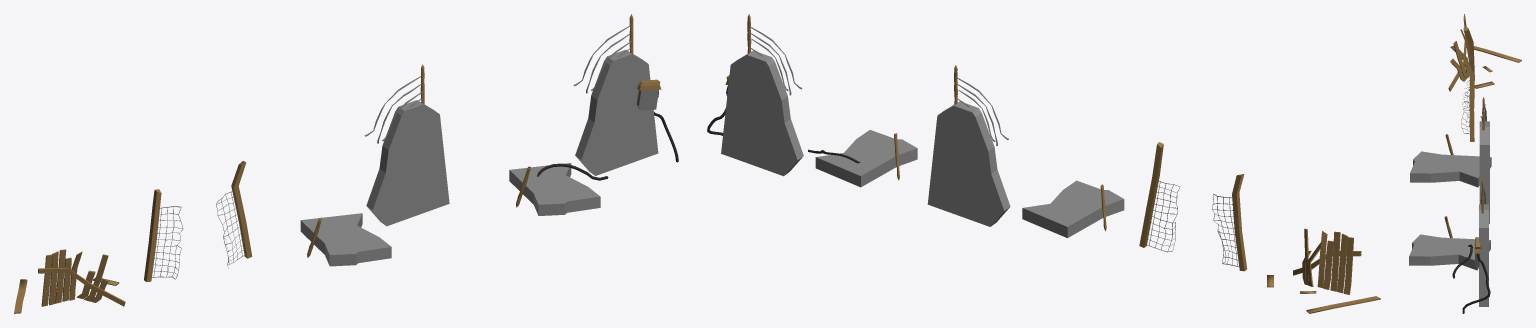
File: fences_tiers_broken.fbx
3 renders of one model, left to right at view 1: azimuth 30°, elevation 25°; view 2: azimuth 150°, elevation 25°; view 3: azimuth 270°, elevation 25°, orthographic. The views are drawn at different scales.
Parts seen in each view (by area): view 1: concrete_fence_broken_wire, concrete_fence_broken, wood_fence_broken, 2fence_broken; view 2: concrete_fence_broken_wire, concrete_fence_broken, wood_fence_broken, 2fence_broken; view 3: concrete_fence_broken_wire, concrete_fence_broken, wood_fence_broken, 2fence_broken.
Boxes of the visible parts, bbox=[...] form: concrete_fence_broken_wire: bbox=[509, 14, 678, 215]; concrete_fence_broken: bbox=[300, 64, 449, 266]; wood_fence_broken: bbox=[14, 249, 125, 313]; 2fence_broken: bbox=[144, 161, 252, 281]; concrete_fence_broken_wire: bbox=[707, 14, 917, 187]; concrete_fence_broken: bbox=[927, 65, 1124, 237]; wood_fence_broken: bbox=[1267, 228, 1380, 313]; 2fence_broken: bbox=[1139, 142, 1247, 271]; concrete_fence_broken_wire: bbox=[1409, 180, 1490, 313]; concrete_fence_broken: bbox=[1410, 97, 1491, 223]; wood_fence_broken: bbox=[1448, 14, 1521, 91]; 2fence_broken: bbox=[1460, 27, 1474, 141].
Bounding box in the file's own units: 1545 × 336 × 278.
